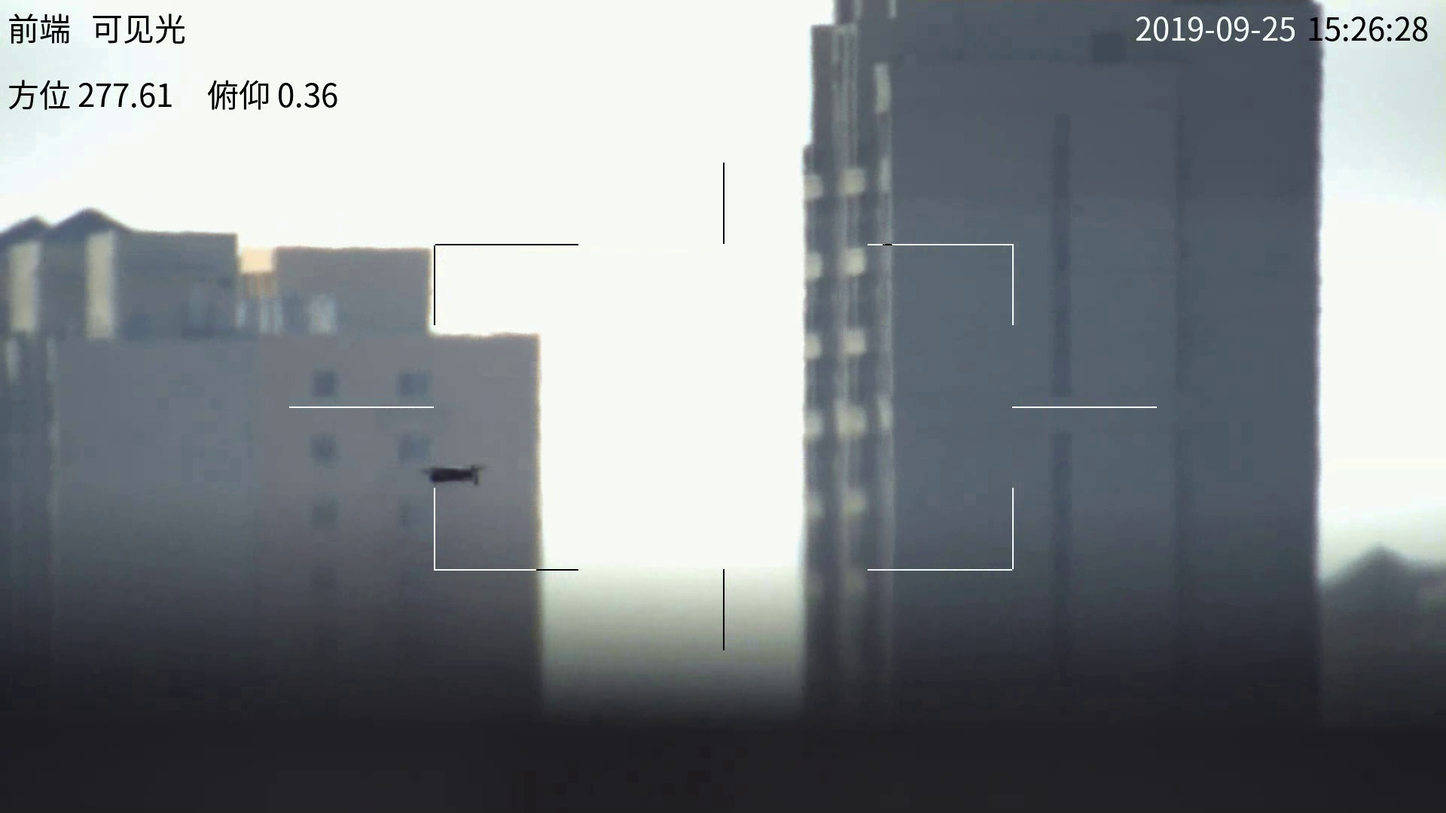drone_other: (430, 465, 484, 488)
